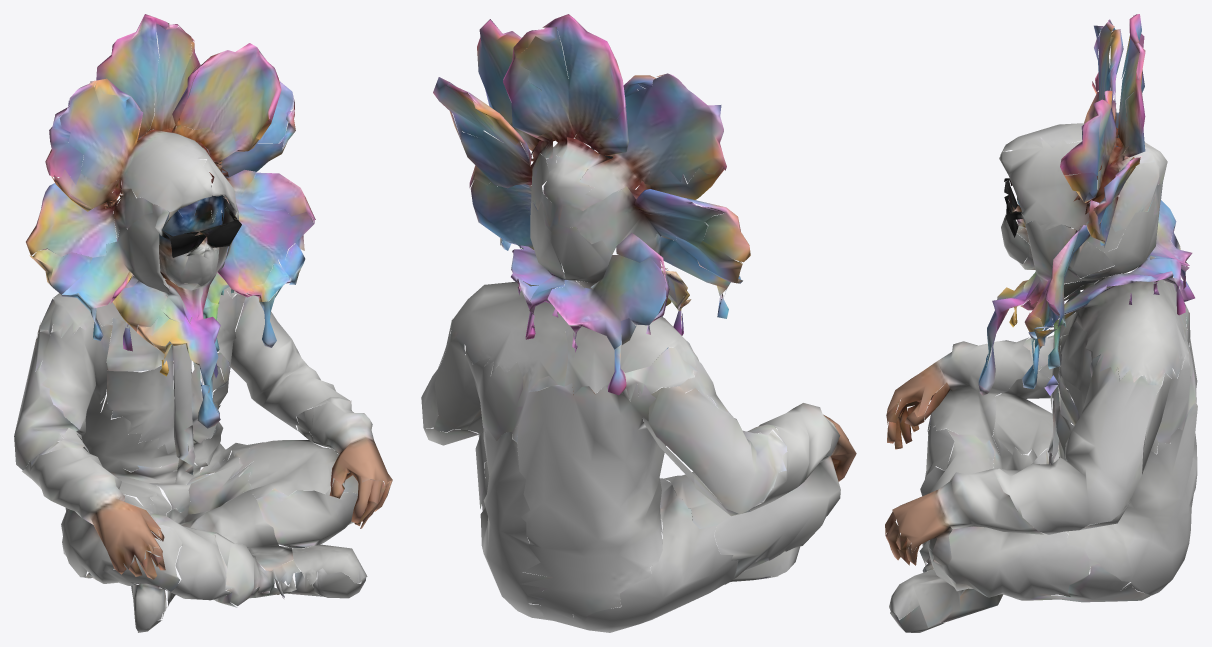
The model's file is crowd_robber_full.glb.
3 views of the same model, side by side, from view 1: azimuth 30°, elevation 25°; view 2: azimuth 150°, elevation 25°; view 3: azimuth 270°, elevation 25° (orthographic). The views are drawn at different scales.
Visible parts, largest first — view 1: tripo_node_d2d8d7c2-effa-49cc-8b4e-33de79e9e200; view 2: tripo_node_d2d8d7c2-effa-49cc-8b4e-33de79e9e200; view 3: tripo_node_d2d8d7c2-effa-49cc-8b4e-33de79e9e200.
Boxes of the visible parts, x1,y1,x2,y2 form: tripo_node_d2d8d7c2-effa-49cc-8b4e-33de79e9e200: [14, 14, 392, 632]; tripo_node_d2d8d7c2-effa-49cc-8b4e-33de79e9e200: [421, 14, 856, 632]; tripo_node_d2d8d7c2-effa-49cc-8b4e-33de79e9e200: [885, 14, 1197, 632].
Bounding box in the file's own units: 0.6022 × 1 × 0.499.
Materials: 1 (1 with a texture image).
